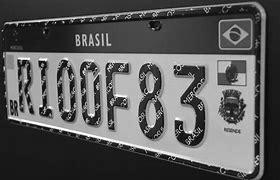placa_mercosul: (1, 2, 266, 178)
